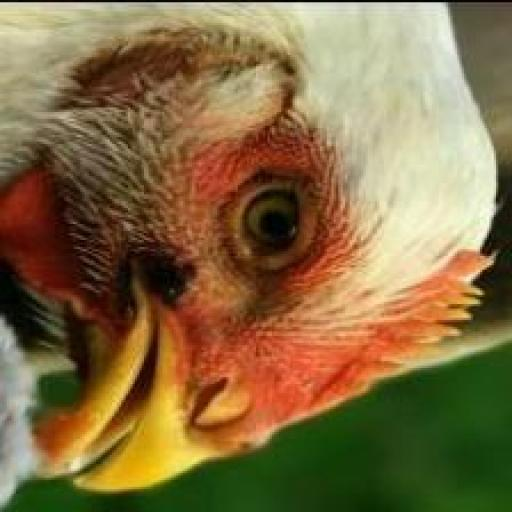disease: (98, 188, 226, 320)
